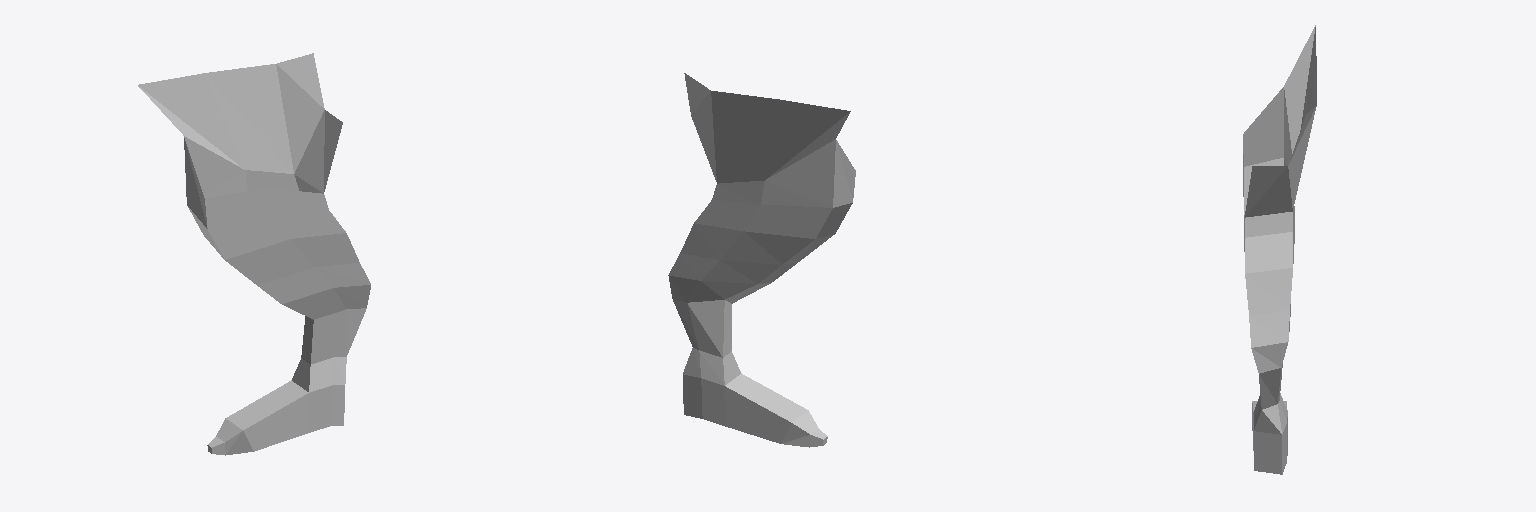
The model's file is DerTras.obj.
The picture shows the model from 3 angles: view 1: azimuth 30°, elevation 25°; view 2: azimuth 150°, elevation 25°; view 3: azimuth 270°, elevation 25°; orthographic projection.
Visible parts, largest first — view 1: Tigre:Mesh1polySurface9polySurface8polySurface5polySurface2; view 2: Tigre:Mesh1polySurface9polySurface8polySurface5polySurface2; view 3: Tigre:Mesh1polySurface9polySurface8polySurface5polySurface2.
Part boxes in pixels (x1,y1,x2,y2): Tigre:Mesh1polySurface9polySurface8polySurface5polySurface2: (138,53,370,455); Tigre:Mesh1polySurface9polySurface8polySurface5polySurface2: (668,73,855,447); Tigre:Mesh1polySurface9polySurface8polySurface5polySurface2: (1243,25,1316,474).
Size of the model in its own units: 0.4775 by 0.8248 by 0.1506.